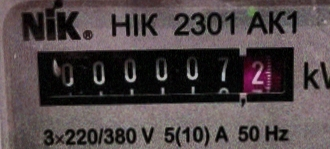0: (120, 55, 136, 84), (57, 60, 74, 87), (151, 55, 168, 82), (89, 58, 105, 85), (183, 54, 198, 82)
2: (248, 60, 264, 86)
7: (214, 53, 229, 83)
screen: (24, 39, 304, 113)
